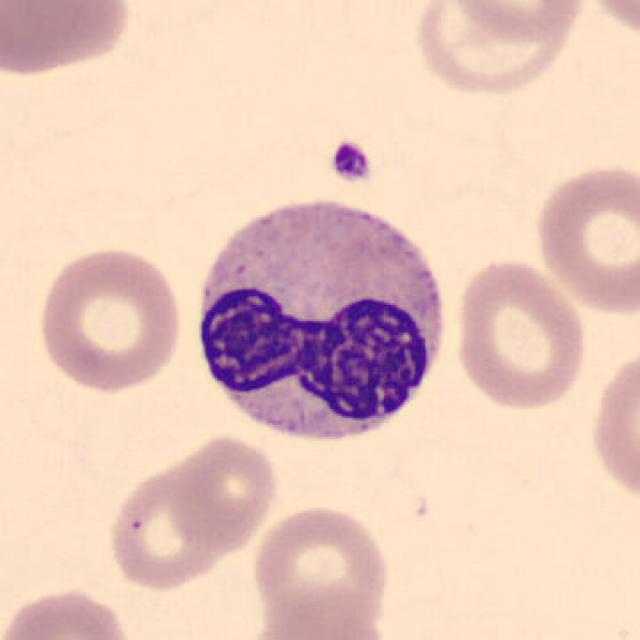Neutrophil: (183, 185, 457, 460)
Platelets: (325, 138, 375, 185)
RBC: (32, 242, 187, 396), (101, 441, 251, 599), (450, 254, 590, 414), (247, 501, 395, 631), (405, 0, 586, 100), (530, 159, 638, 319), (165, 430, 283, 554), (0, 0, 138, 79), (586, 338, 640, 514), (0, 583, 138, 640), (245, 587, 393, 640), (441, 0, 587, 46), (578, 0, 640, 44)
